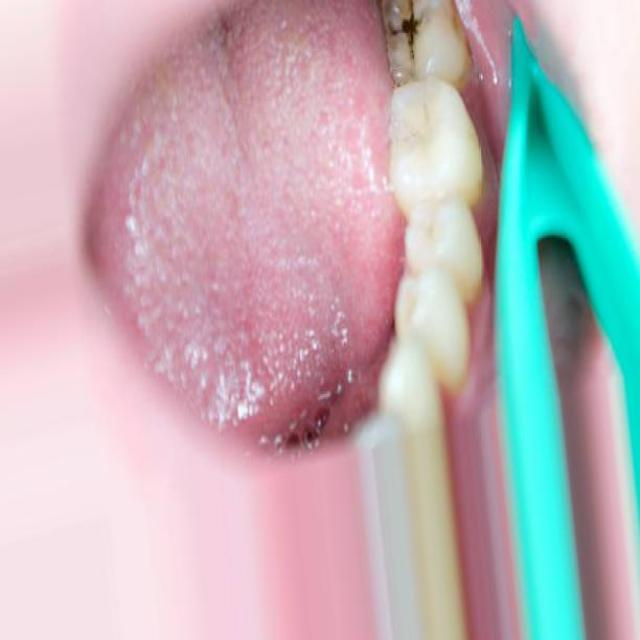caries: (372, 0, 444, 82)
